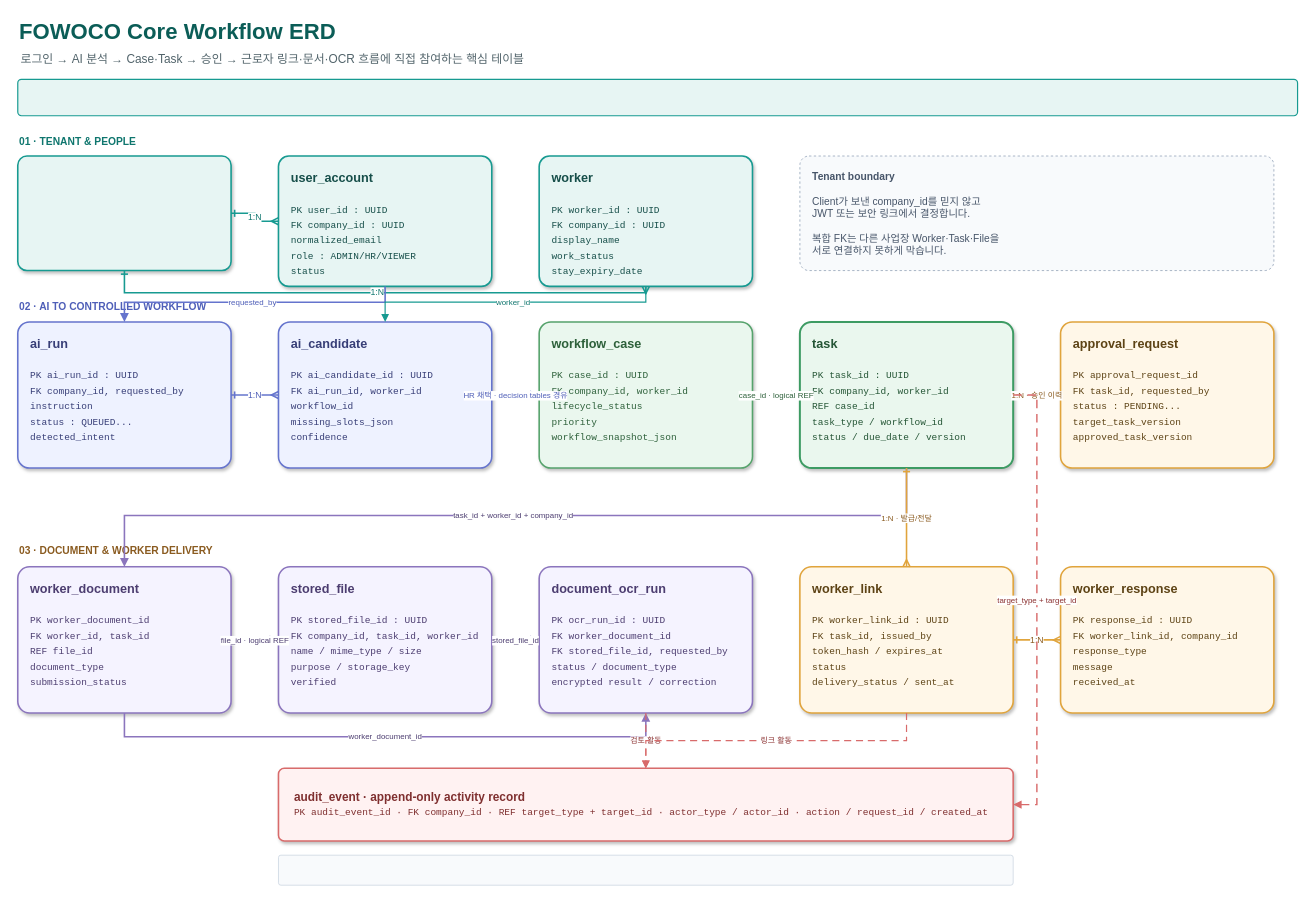
Some shapes in this 1311 by 899 pixel diagram are drawn without their labels. Here are the shapes that lost their labels. From the top down, the centre of each, then its label:
(657,97): Presentation View · 전체 컬럼이 아닌 PK·FK·상태 필드만 표시 · 모든 업무 데이터는 company_id 로 사업장 격리
(124,214): company PK company_id : UUID name : varchar status : ACTIVE...
(645,869): 관계 표시 ━ 실제 FK 제약 ┄ 서비스/다형 참조(REF) 또는 생략한 결정 테이블 경유
